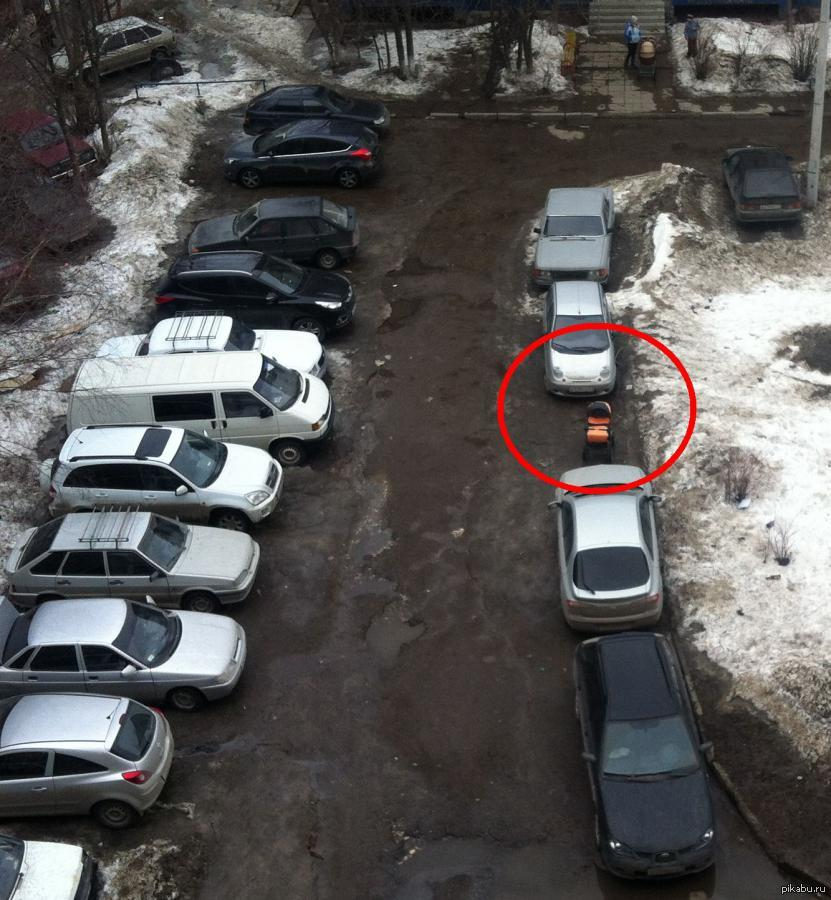Car: (573, 632, 718, 882), (66, 352, 334, 466), (0, 597, 248, 711), (5, 512, 261, 612), (43, 425, 284, 530), (0, 694, 175, 830), (548, 465, 663, 631), (155, 251, 356, 340), (96, 314, 328, 379), (185, 196, 360, 270), (224, 119, 384, 190), (45, 15, 175, 85), (531, 187, 618, 291), (541, 279, 616, 395), (243, 84, 390, 137), (0, 105, 97, 180), (0, 831, 98, 900), (721, 146, 804, 226)
